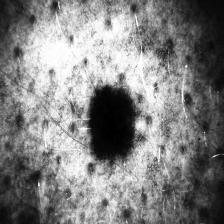Benign Marking or Mole: (92, 89, 134, 162)
